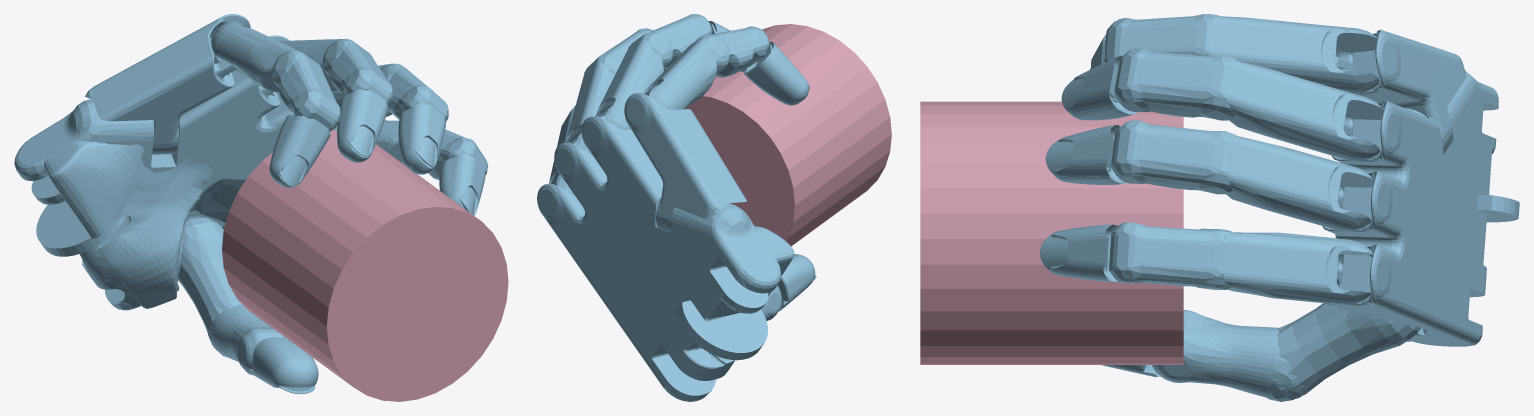
3 views of the same model, side by side, from view 1: azimuth 30°, elevation 25°; view 2: azimuth 150°, elevation 25°; view 3: azimuth 270°, elevation 25° (orthographic). The views are drawn at different scales.
Parts seen in each view (by area): view 1: world; view 2: world; view 3: world.
Boxes of the visible parts, box(x1,y1,x2,y2) form: world: box(14, 14, 508, 401); world: box(537, 14, 891, 401); world: box(920, 14, 1519, 401).
Bounding box in the file's own units: 0.1477 × 0.1344 × 0.182.
